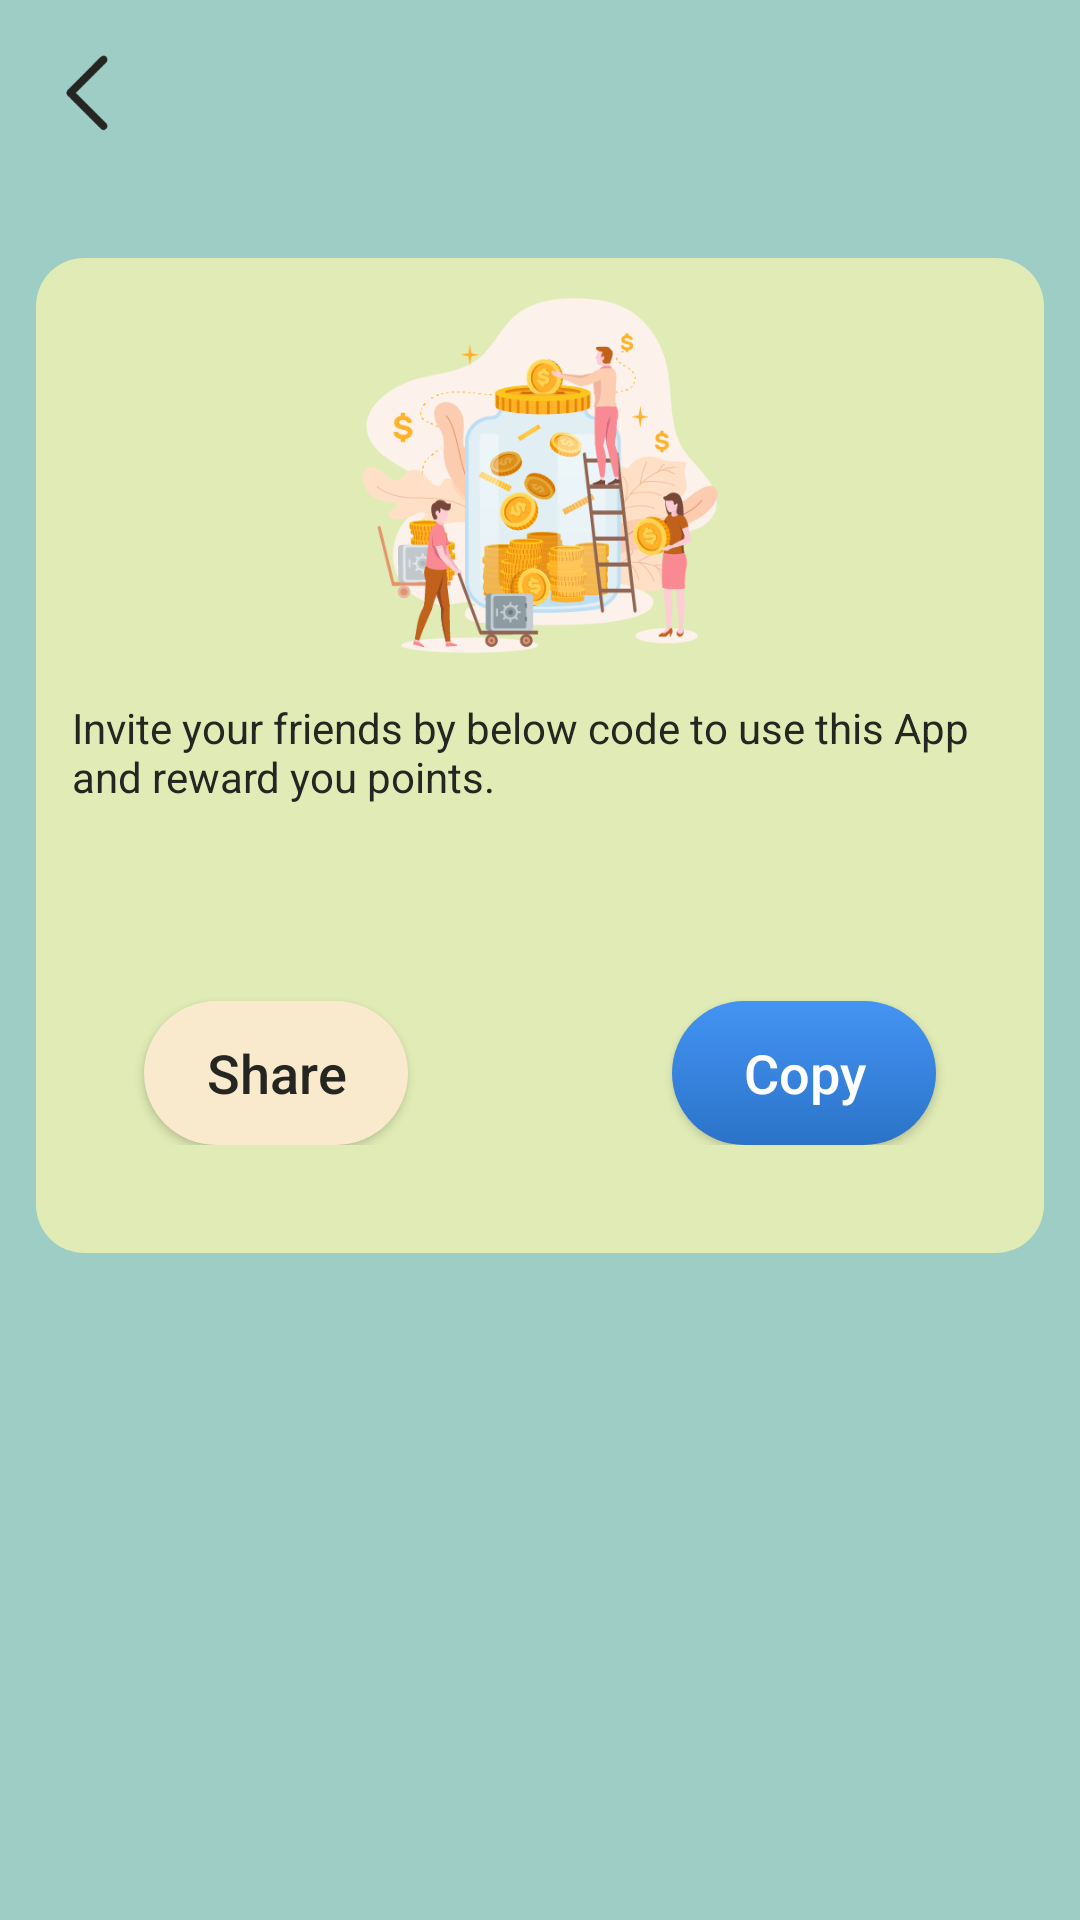

Locate icon controls on the screen. Image size 1080*1920, boxes as [x1=x1, y1=y1, x2=x2, y2=y2].
back: [x1=66, y1=55, x2=108, y2=130]
